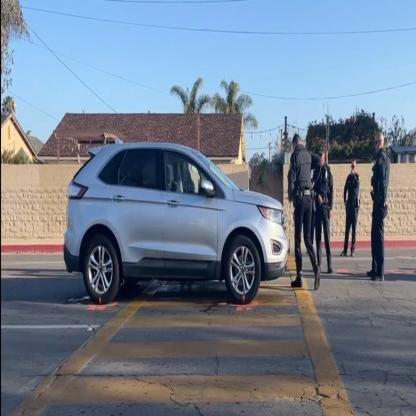Crosswalk: (23, 279, 356, 416)
